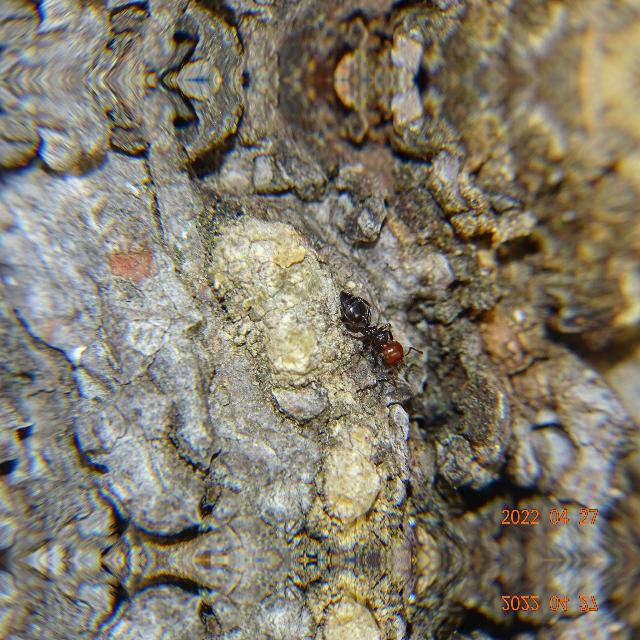Crematogaster: (325, 281, 421, 381)
